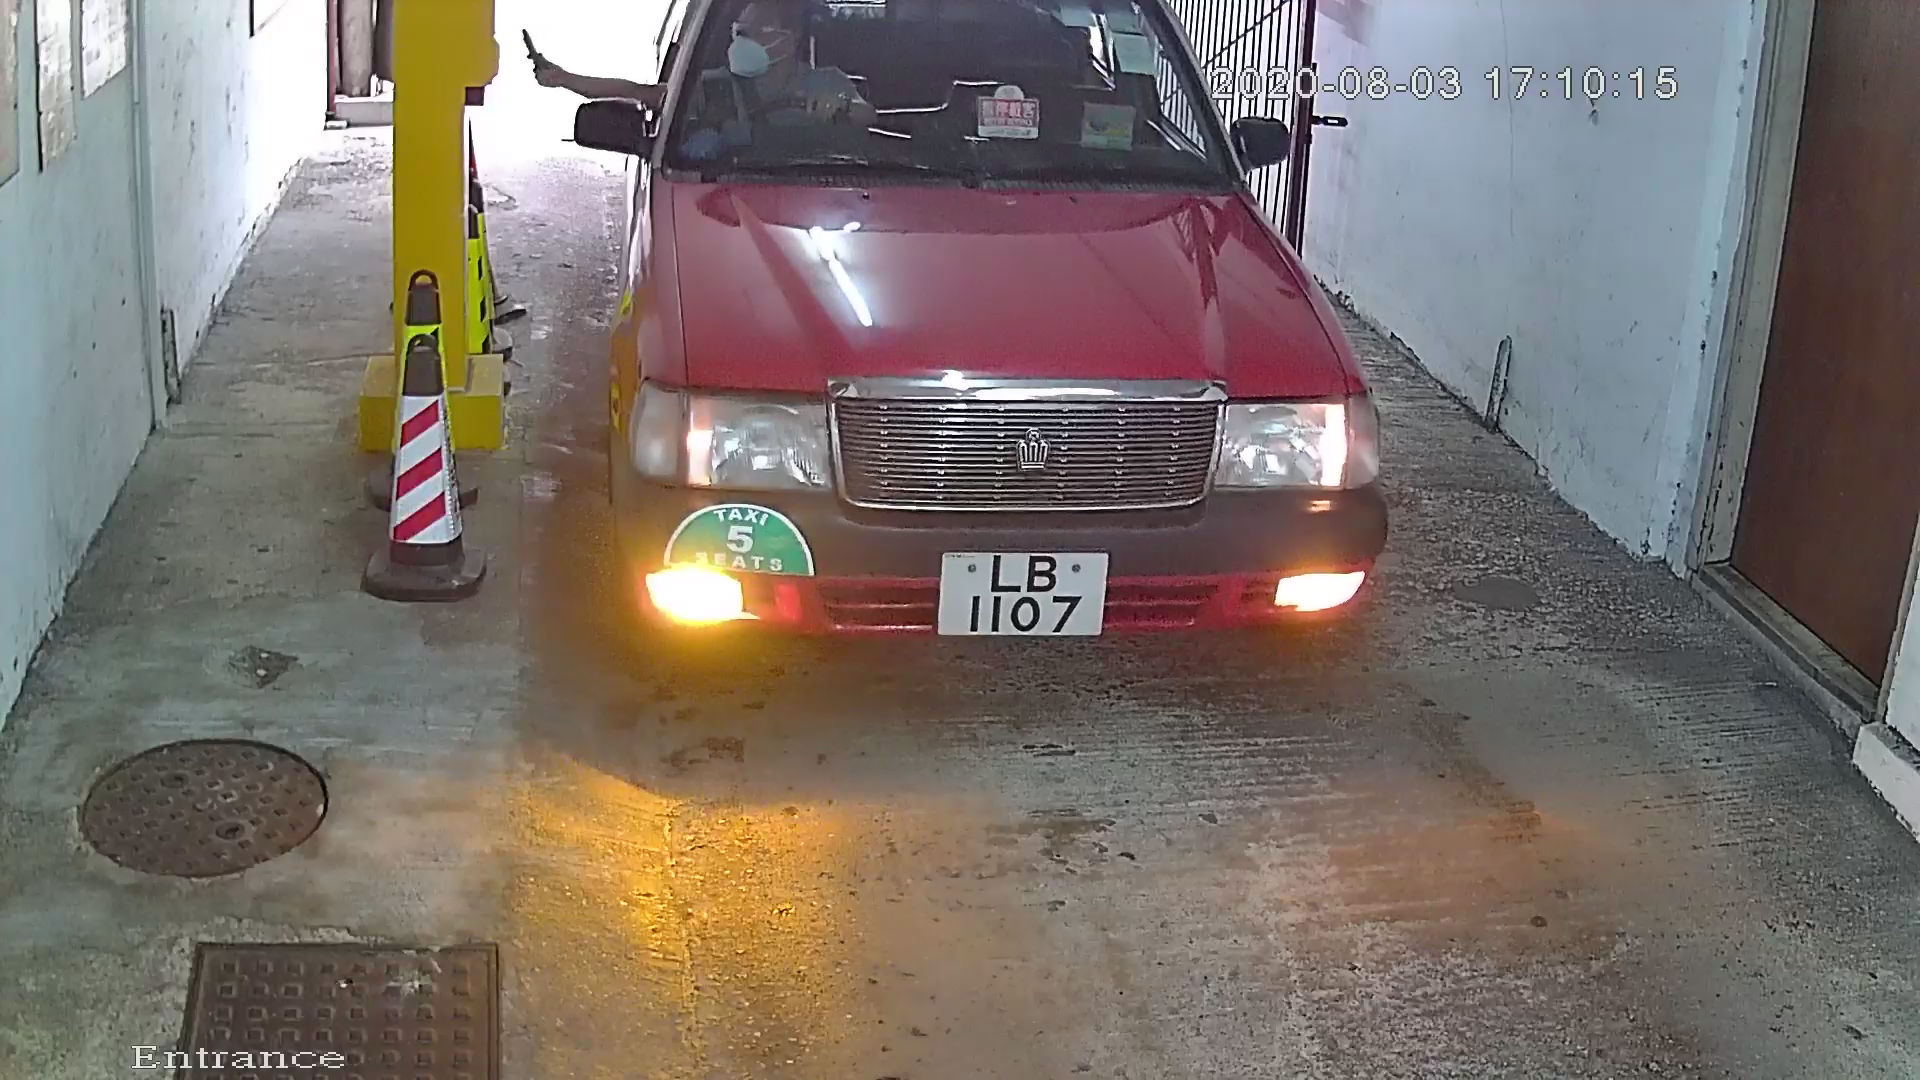taxi: (589, 1, 1423, 694)
taxi_mark: (661, 480, 823, 597)
